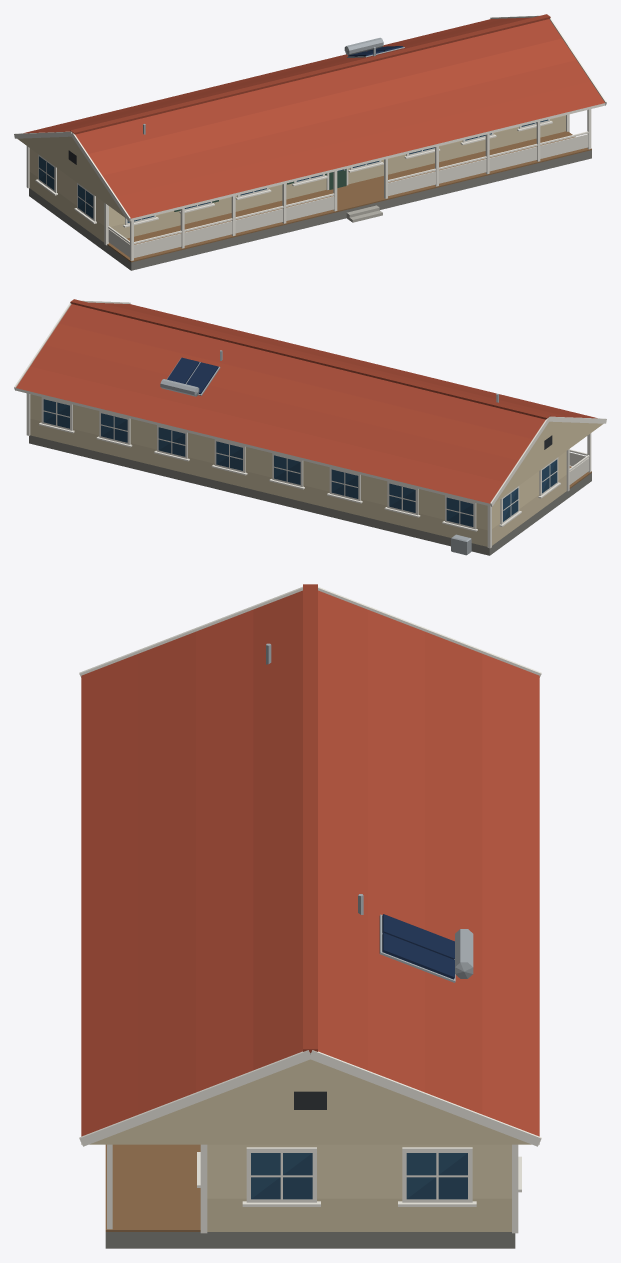
Rendered from house_26x10.glb.
3 views of the same model, one above another, from view 1: azimuth 30°, elevation 25°; view 2: azimuth 150°, elevation 25°; view 3: azimuth 270°, elevation 25° (orthographic). The views are drawn at different scales.
Visible parts, largest first — view 1: house; view 2: house; view 3: house.
Boxes of the visible parts, x1,y1,x2,y2 form: house: (14,14,606,270); house: (14,299,606,555); house: (79,584,541,1248).
Size of the model in its own units: 26.93 by 5.58 by 11.29.
